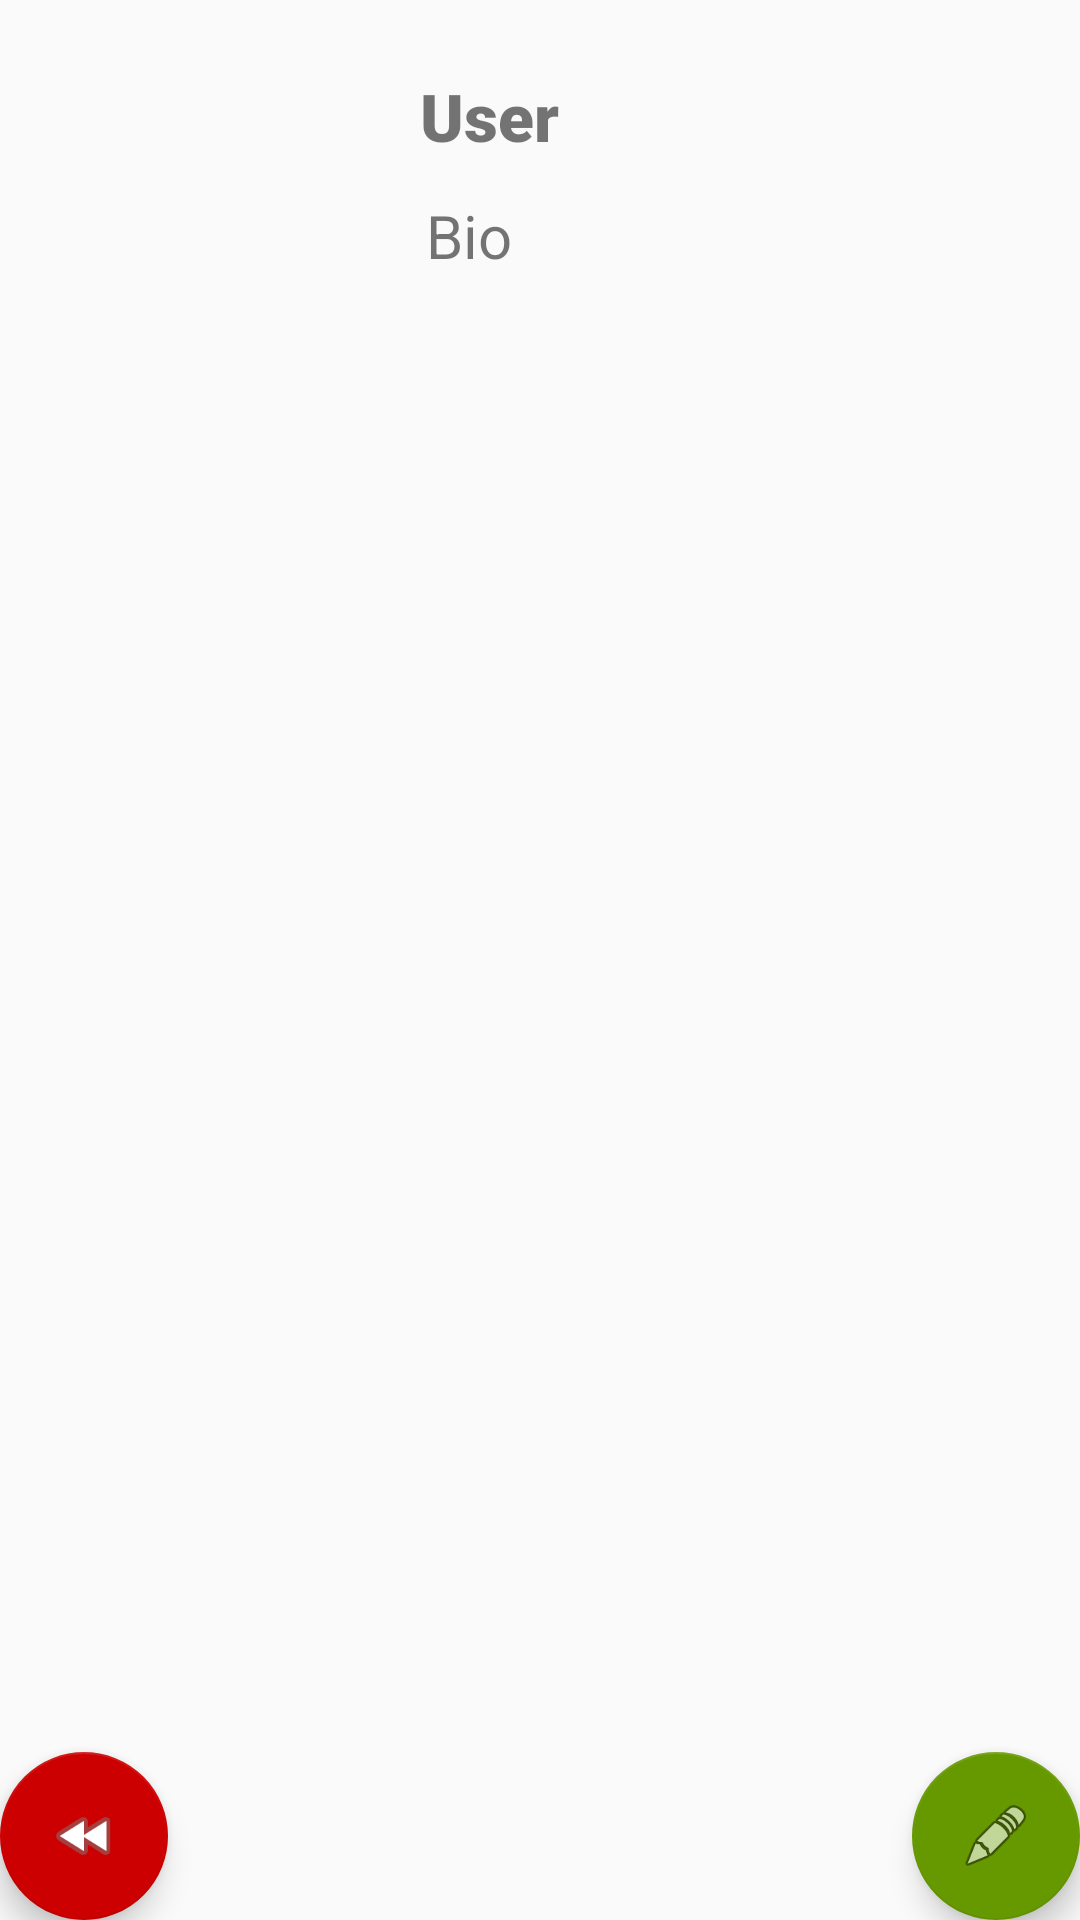

Point at icon controls on the screen. Image size 1080x1920, points as (x=x, y=y).
edit: (x=996, y=1836)
rew: (x=84, y=1836)
